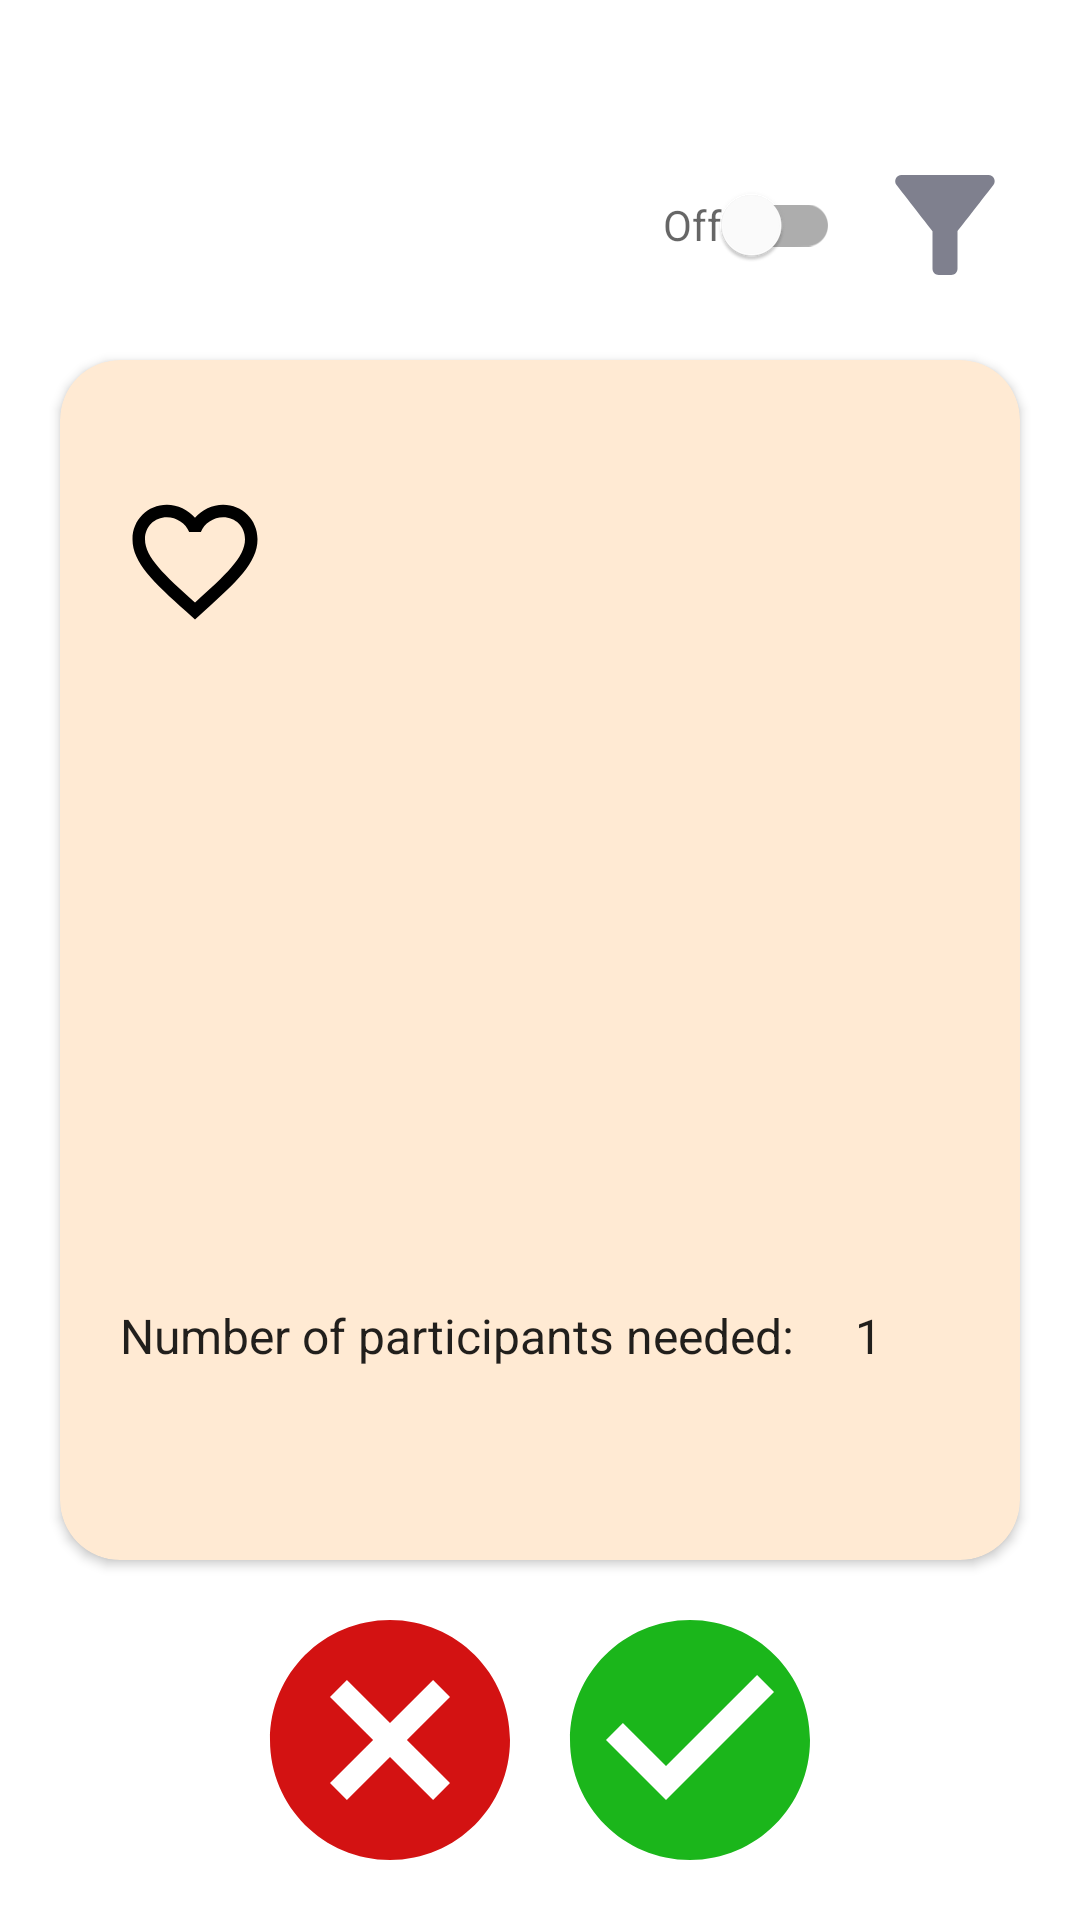

Where to tap for icons on this 1080 x 1920 app screen, as point (x, y):
cancel: point (390, 1740)
check circle: point (690, 1740)
favorite border: point (195, 562)
